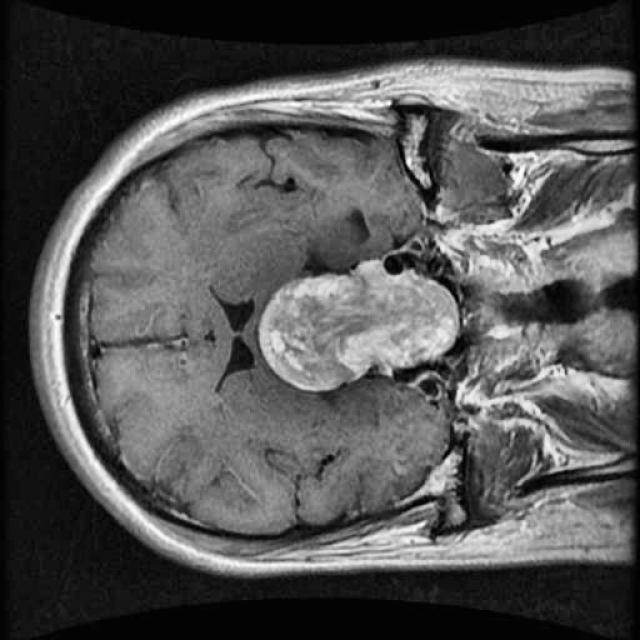Tumor: (249, 244, 470, 405)
